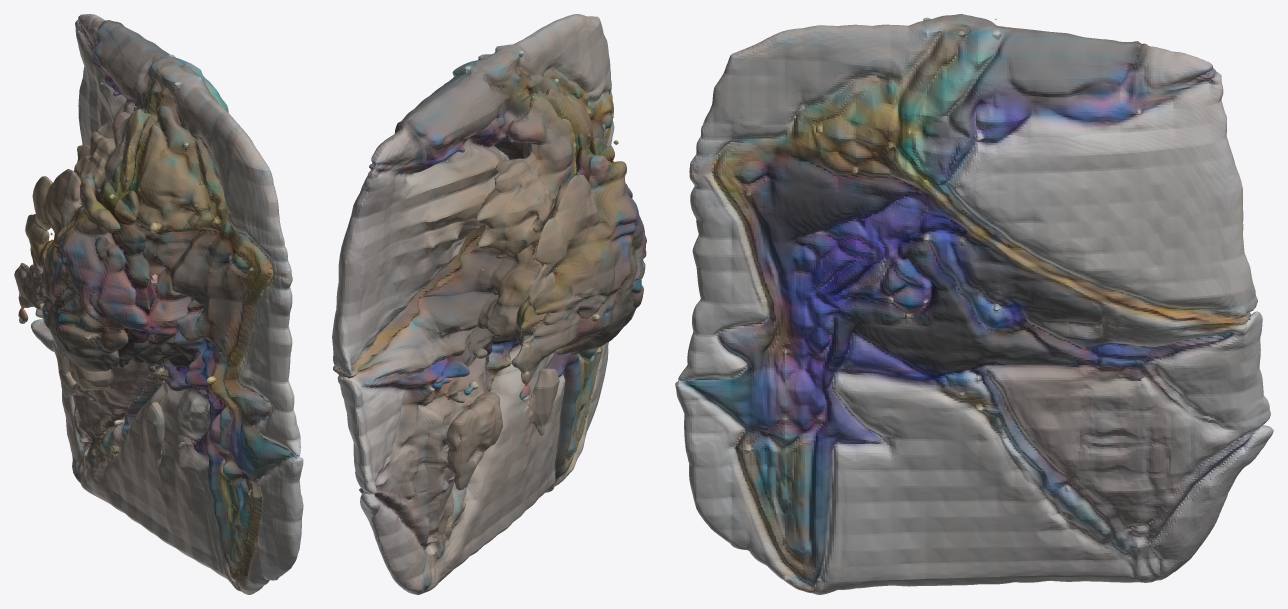
Rendered from le-attrata.glb.
3 renders of one model, left to right at view 1: azimuth 30°, elevation 25°; view 2: azimuth 150°, elevation 25°; view 3: azimuth 270°, elevation 25°, orthographic. The views are drawn at different scales.
Visible parts, largest first — view 1: world; view 2: world; view 3: world.
Part boxes in pixels (x1,y1,x2,y2): world: (14,14,303,594); world: (332,14,646,594); world: (675,14,1273,594).
Size of the model in its own units: 0.4085 by 0.9637 by 0.918.
